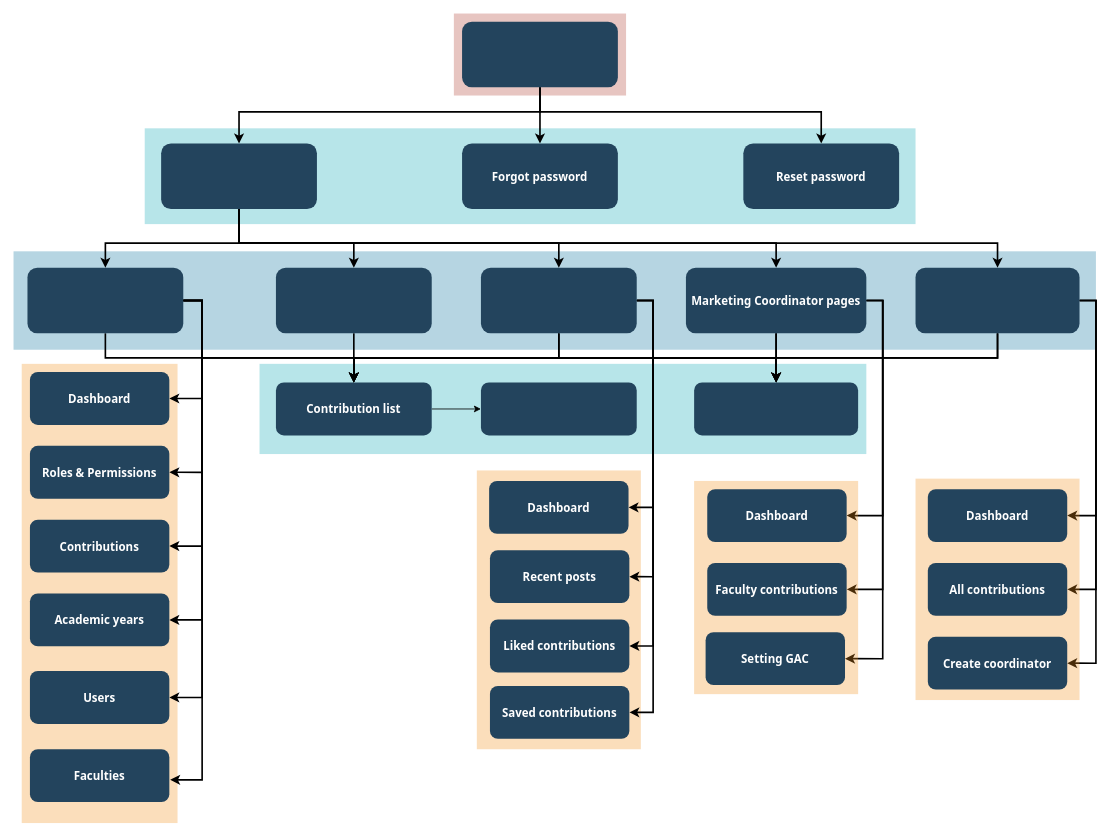
Some shapes in this 1109 by 836 pixel diagram are drawn without their labels. Each missing label, with the centre of its shape:
"Admin pages" belongs at [105,300].
"Contribution detail" belongs at [558,408].
"Guest pages" belongs at [353,300].
"Homepage" belongs at [239,176].
"Login page" belongs at [539,54].
"Marketing Manager pages" belongs at [997,300].
"Profile" belongs at [776,408].
"Student pages" belongs at [558,300].
